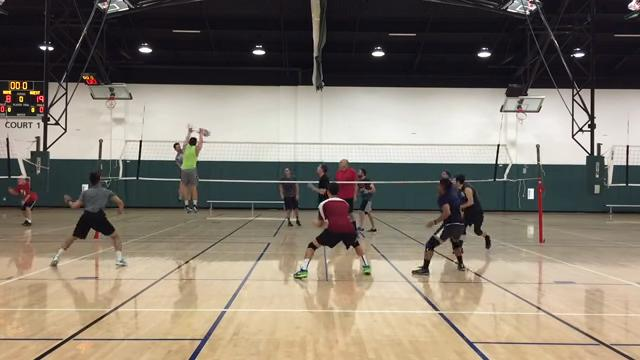Attack: (169, 123, 193, 203)
Block: (169, 124, 208, 218)
Player: (294, 182, 370, 278), (50, 172, 126, 265), (412, 179, 464, 274), (455, 174, 490, 248), (335, 159, 357, 232), (279, 168, 300, 226), (358, 168, 376, 231), (308, 164, 329, 203), (628, 0, 640, 11), (440, 170, 450, 178)
ball: (202, 127, 210, 139)
